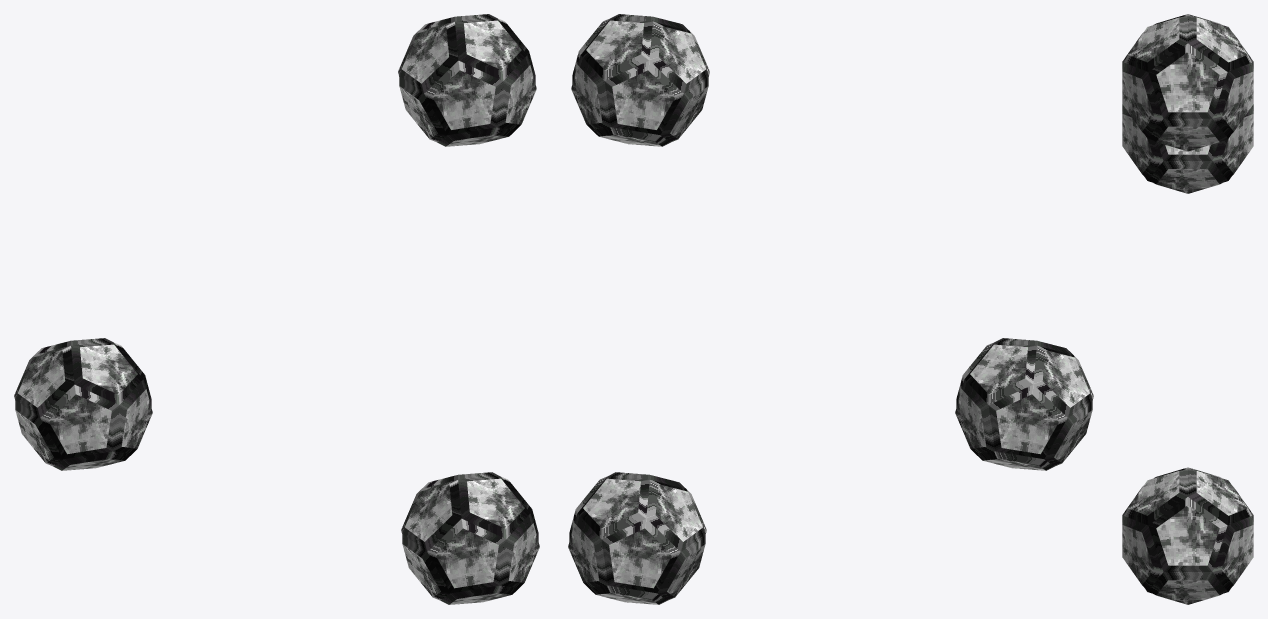
File: tx_liumangxing_black_keep.obj
3 views of the same model, side by side, from view 1: azimuth 30°, elevation 25°; view 2: azimuth 150°, elevation 25°; view 3: azimuth 270°, elevation 25° (orthographic).
Parts seen in each view (by area): view 1: Hedra05, Hedra03, Hedra02, Hedra06, Hedra04, Hedra01; view 2: Hedra05, Hedra03, Hedra02, Hedra06, Hedra04, Hedra01; view 3: Hedra05, Hedra02, Hedra01, Hedra06, Hedra03, Hedra04.
Part boxes in pixels (box(x1,y1,x2,y2)): Hedra05: box(399, 20, 536, 146); Hedra03: box(15, 344, 152, 470); Hedra02: box(402, 478, 539, 604); Hedra06: box(398, 14, 535, 146); Hedra04: box(14, 338, 151, 470); Hedra01: box(401, 472, 538, 604); Hedra05: box(571, 20, 708, 146); Hedra03: box(955, 344, 1092, 470); Hedra02: box(568, 478, 705, 604); Hedra06: box(572, 14, 709, 146); Hedra04: box(956, 338, 1093, 470); Hedra01: box(569, 472, 706, 604); Hedra05: box(1122, 17, 1253, 151); Hedra02: box(1122, 471, 1253, 604); Hedra01: box(1122, 467, 1253, 594); Hedra06: box(1122, 14, 1253, 141); Hedra03: box(1122, 114, 1253, 193); Hedra04: box(1122, 104, 1253, 183).
Bounding box in the file's own units: 59.2 × 65.61 × 13.57.
2 materials, 2 textured.
